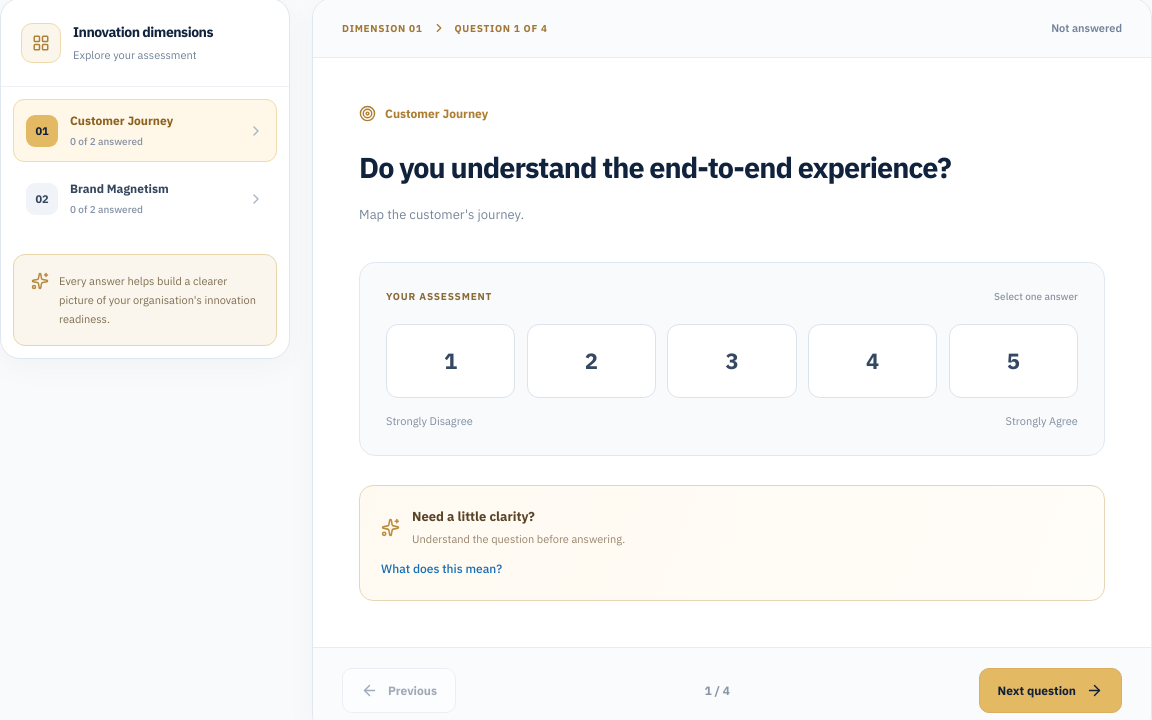
Test: QuestionnairePage › undoes an answer whose save failed, so it is neither shown nor counted
(page scrolled)
Step 1. Click the radio button labelled "4" → click(873, 361), box [808,324,937,398]
(page scrolled)
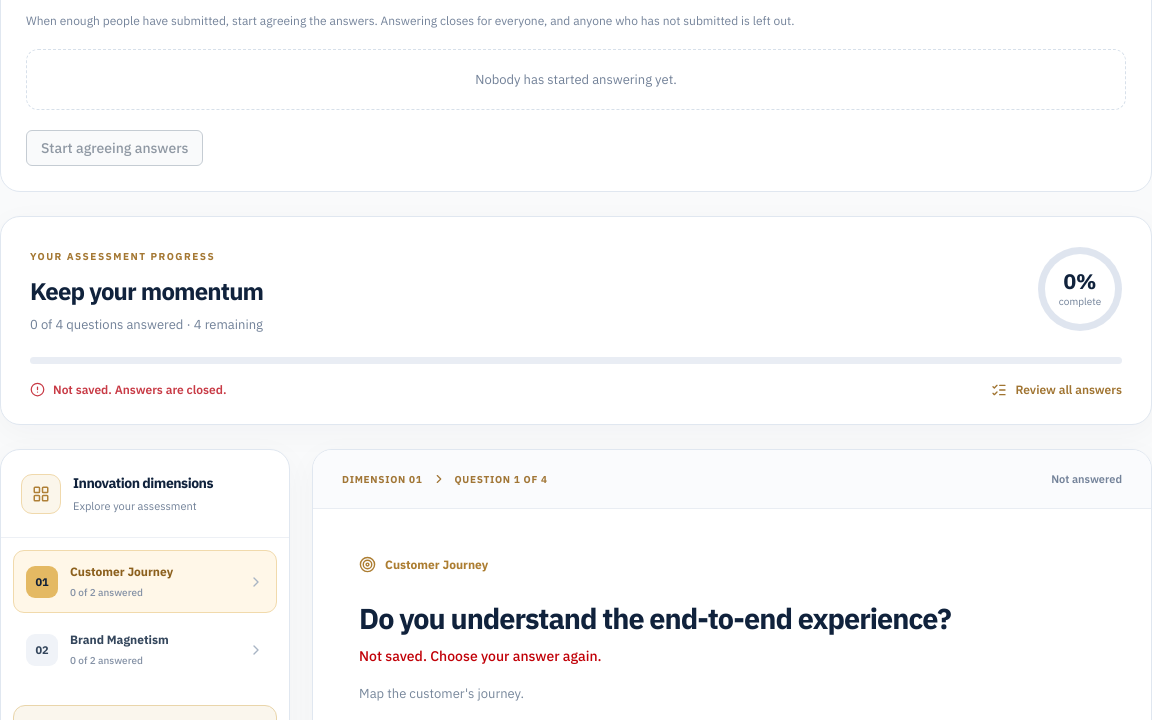
Now the message named "Save status" shows "Not saved", box [53,382,226,397]
